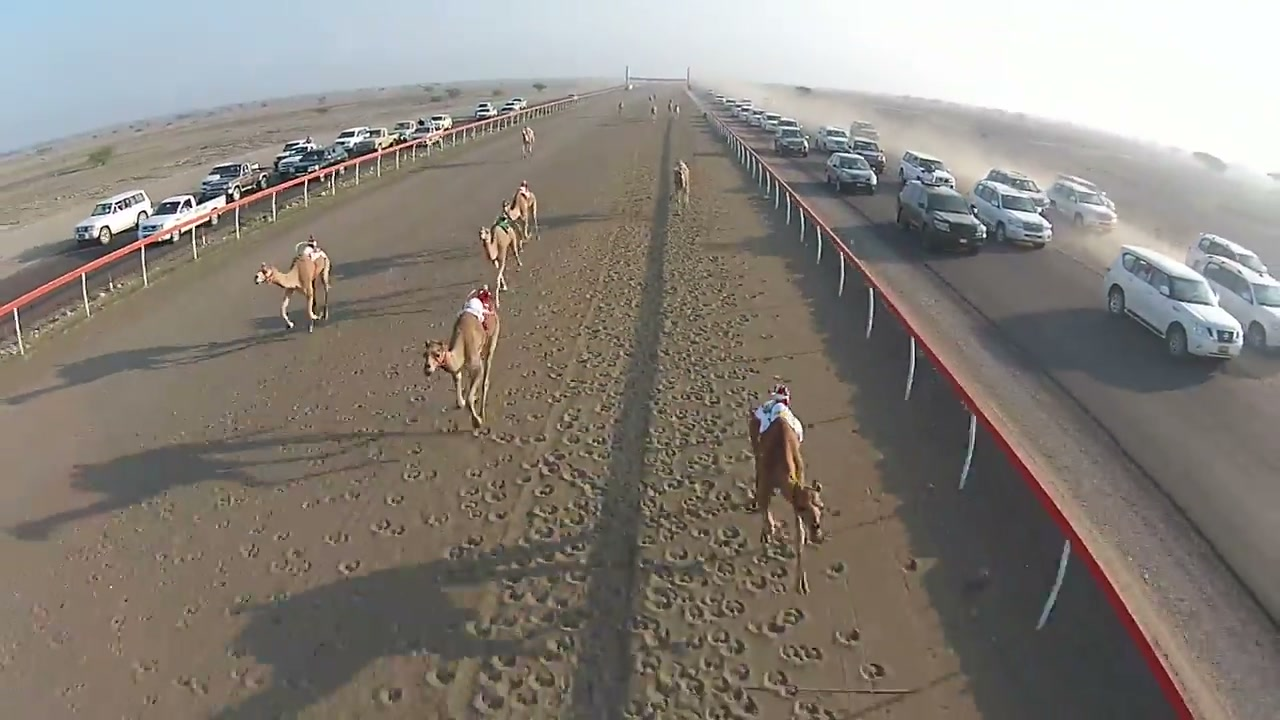animal_foot_print: (0, 127, 896, 718)
